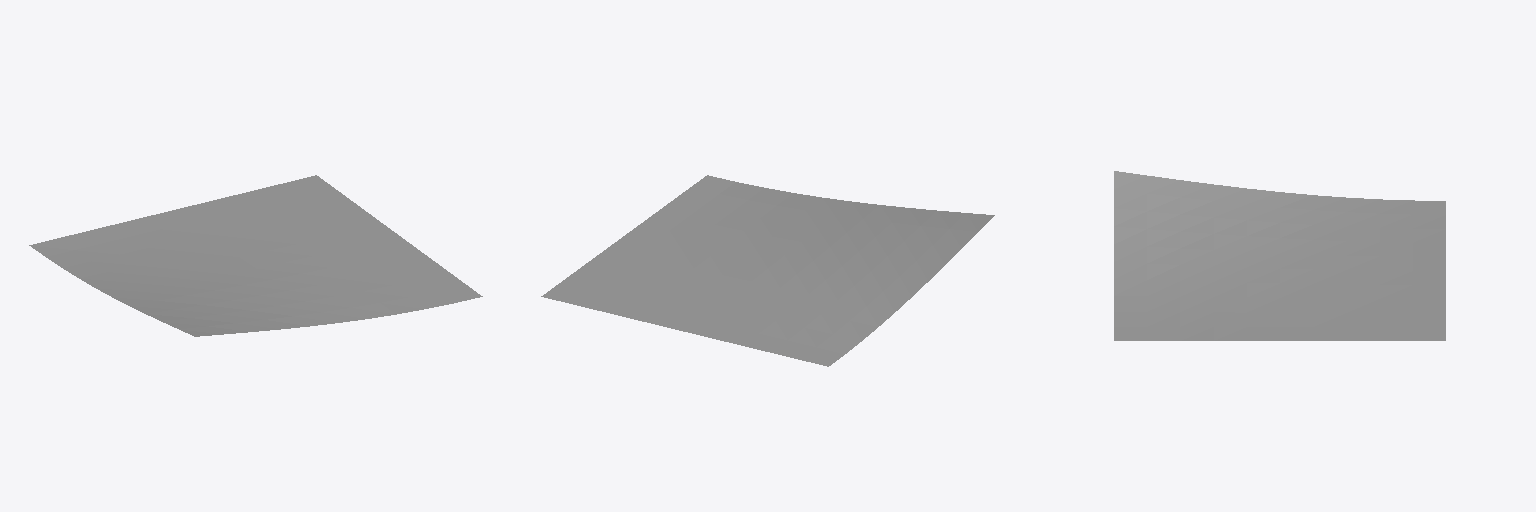
The model's file is grass_bottom_to_mid_bottom.obj.
3 views of the same model, side by side, from view 1: azimuth 30°, elevation 25°; view 2: azimuth 150°, elevation 25°; view 3: azimuth 270°, elevation 25° (orthographic).
Parts seen in each view (by area): view 1: Grass_Plane.015; view 2: Grass_Plane.015; view 3: Grass_Plane.015.
Part boxes in pixels (x1,y1,x2,y2): Grass_Plane.015: (29,175,482,336); Grass_Plane.015: (541,175,994,366); Grass_Plane.015: (1114,171,1445,340).
Size of the model in its own units: 10 by 1 by 10.